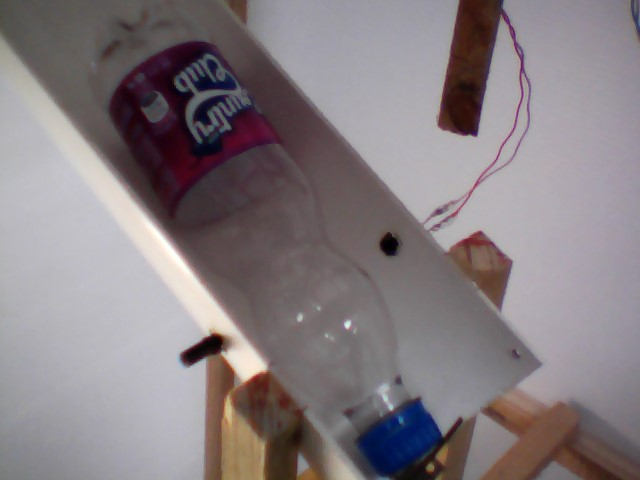plastico: (72, 1, 449, 479)
